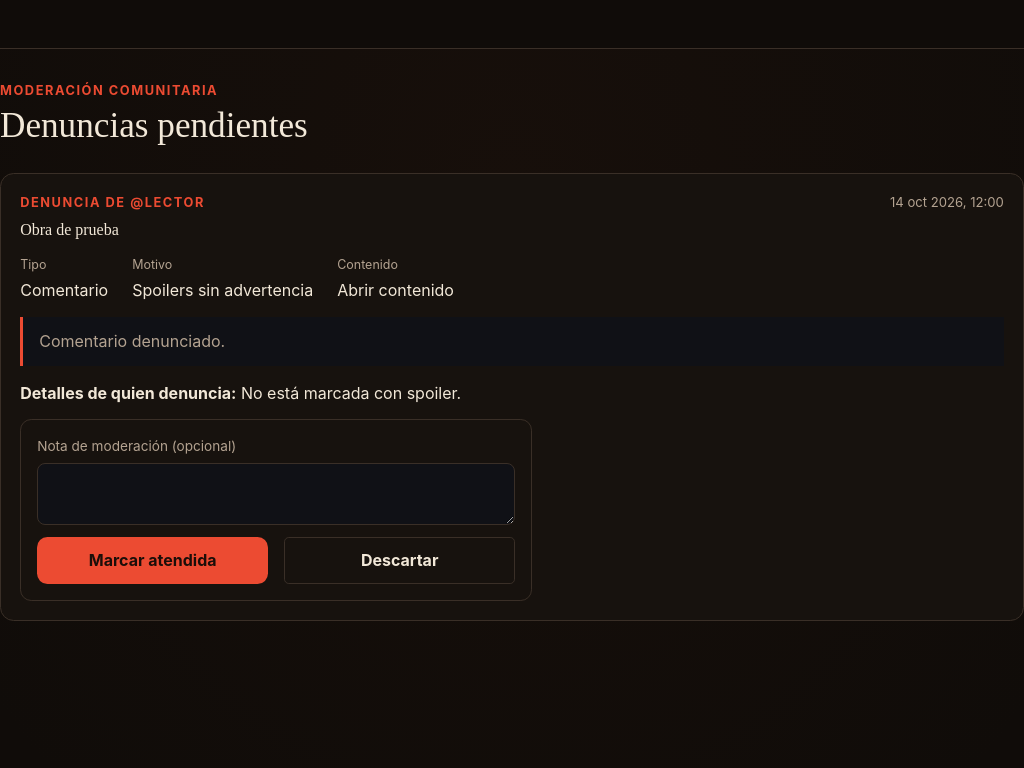
Scenario: CommunityReportsQueue › lets moderators mark a report as resolved
Expected: the heading "Obra de prueba" is shown, [20,221,119,238]
Expected: the text "Comentario denunciado." is shown, [20,317,1004,366]
Step 1. Click the button "Marcar atendida" → (153, 560), box [37,537,268,584]
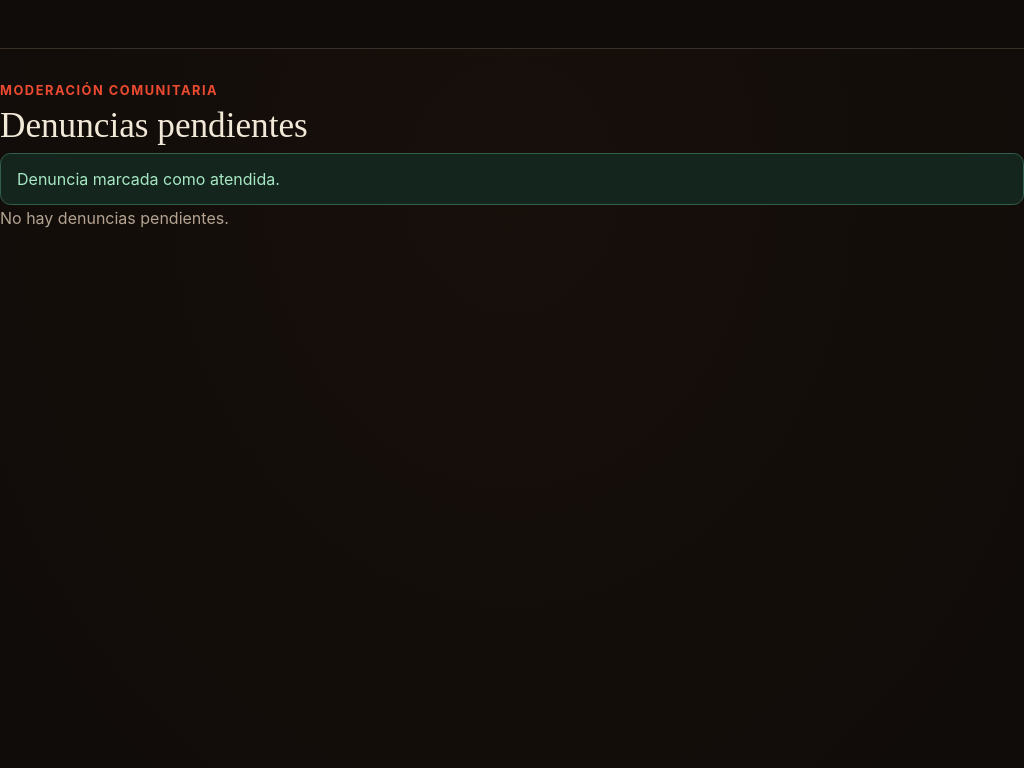
Expected: the message reads "Denuncia marcada como atendida.", [17,169,280,189]
Expected: the text "No hay denuncias pendientes." is shown, [0,208,229,228]
